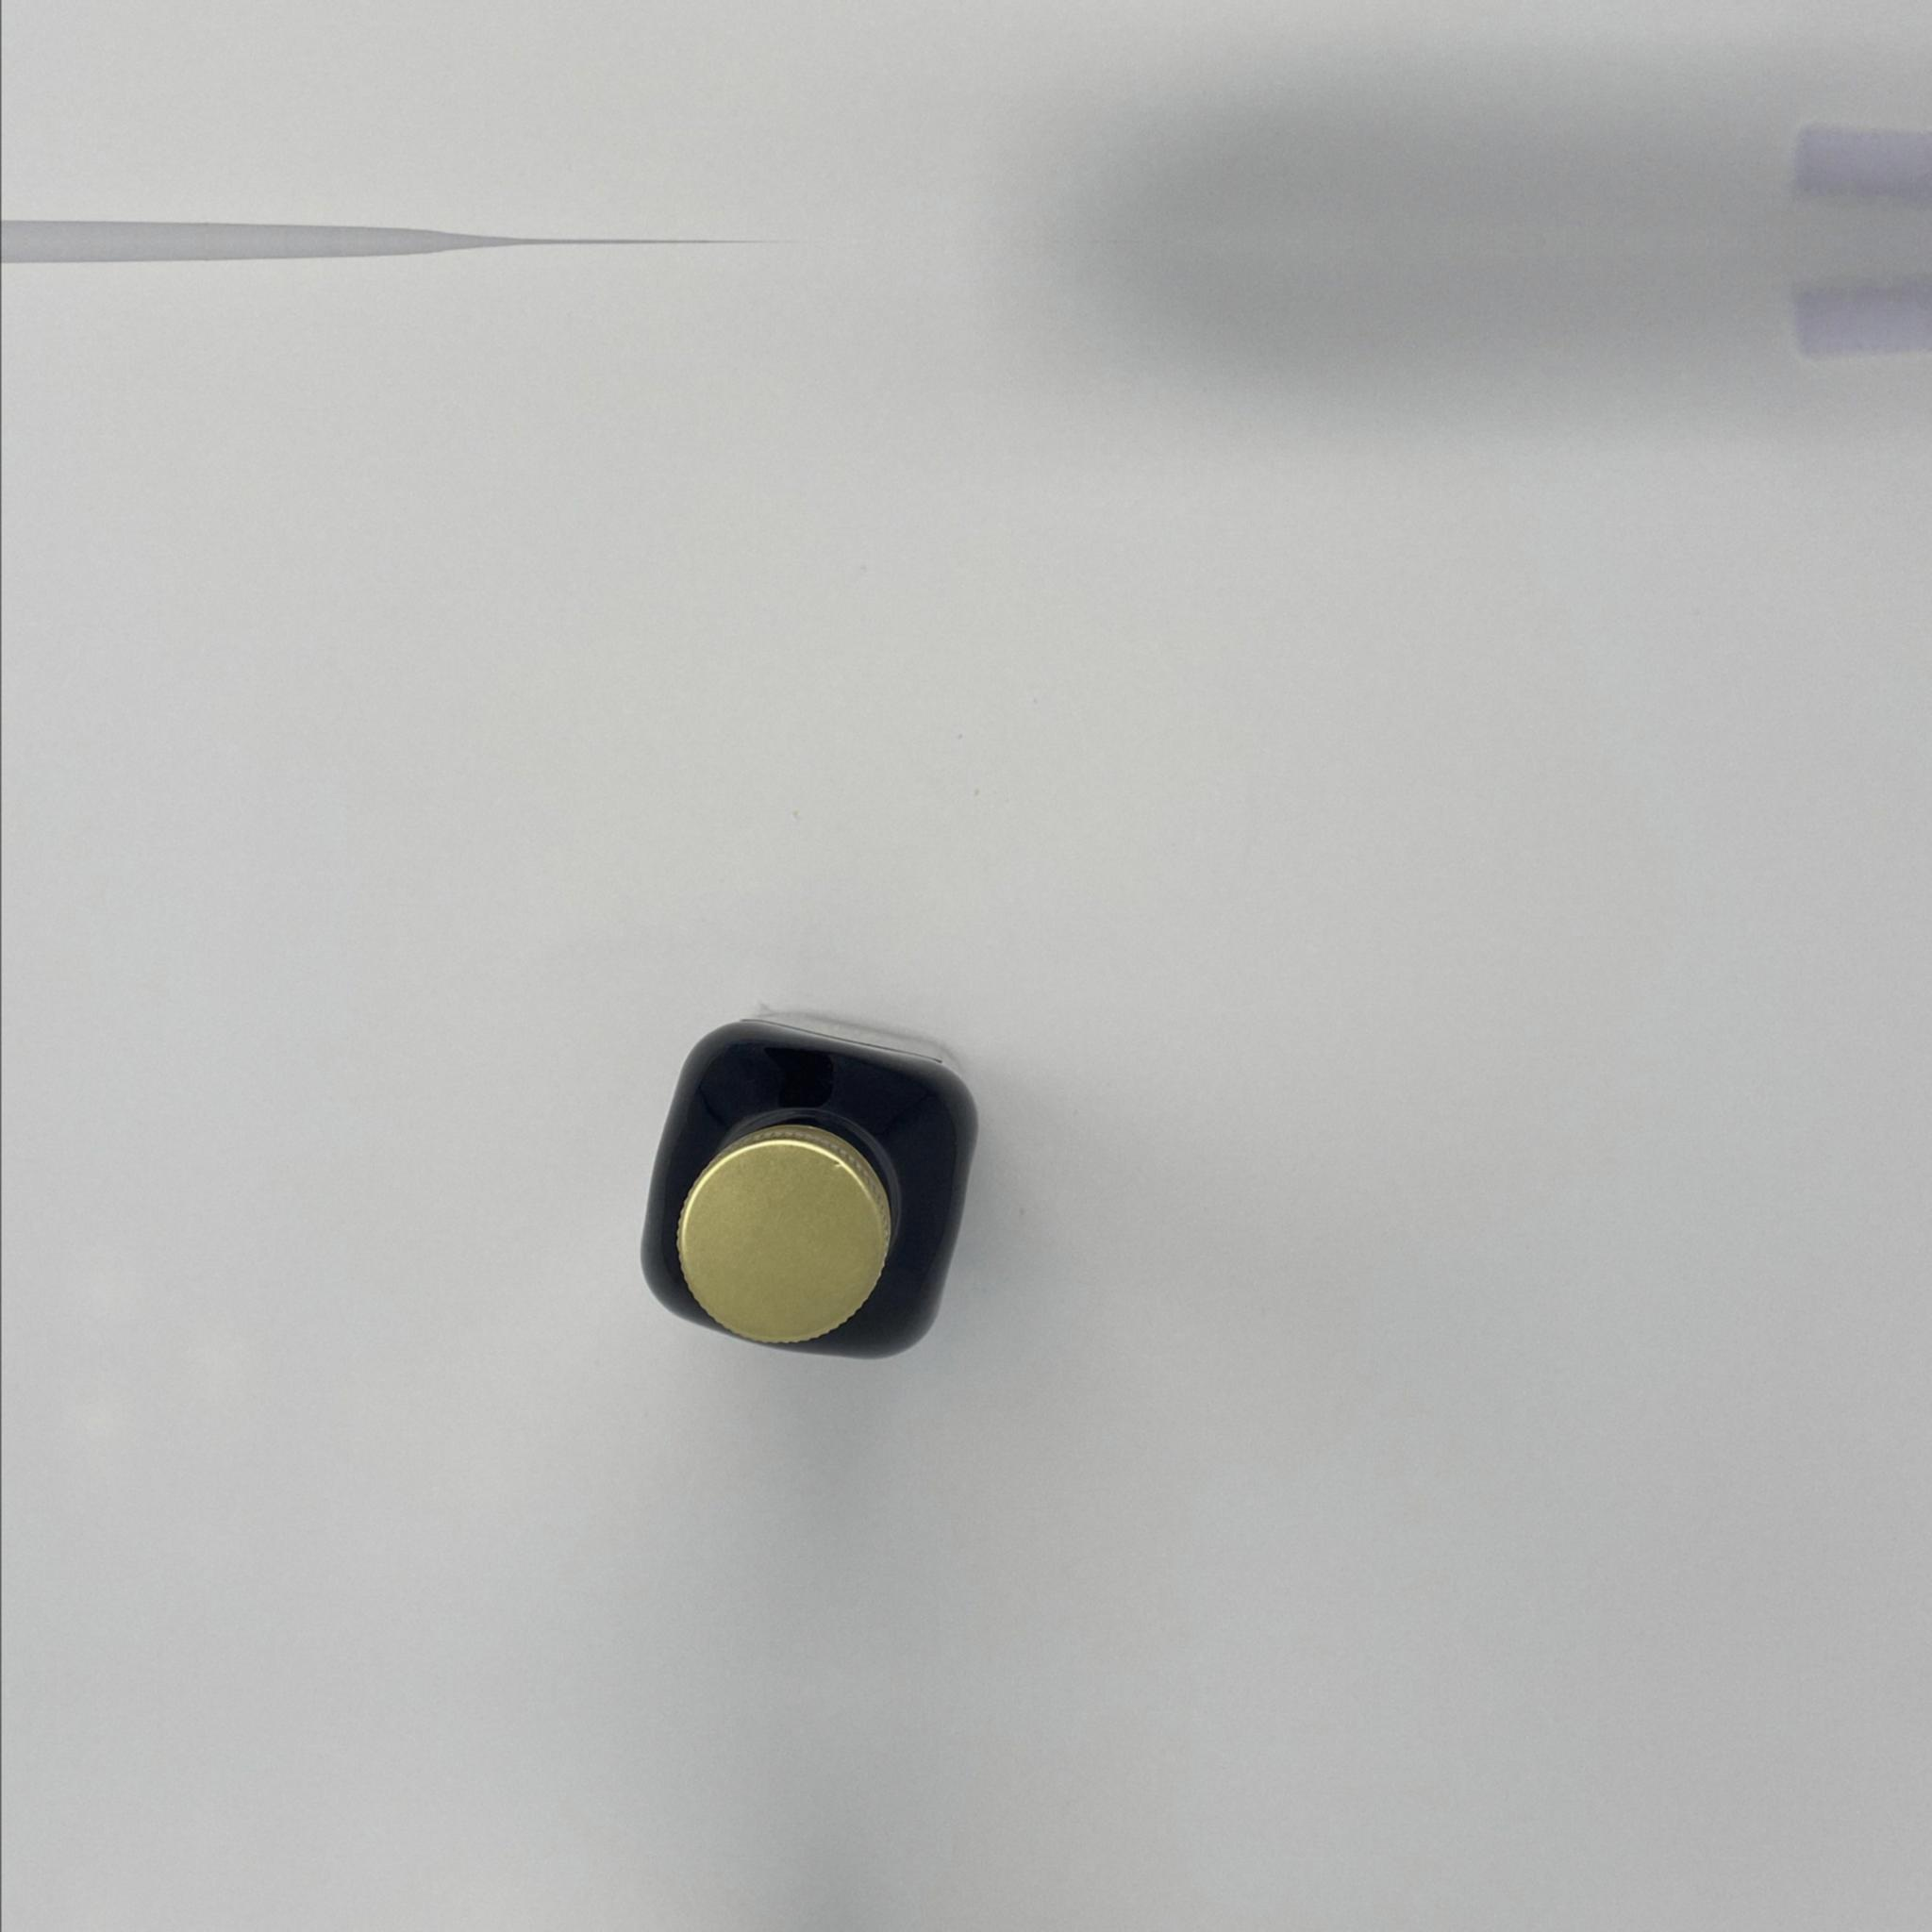glass: (644, 1017, 982, 1362)
oil: (644, 1017, 982, 1362)
sodocalcique: (644, 1017, 982, 1362)
